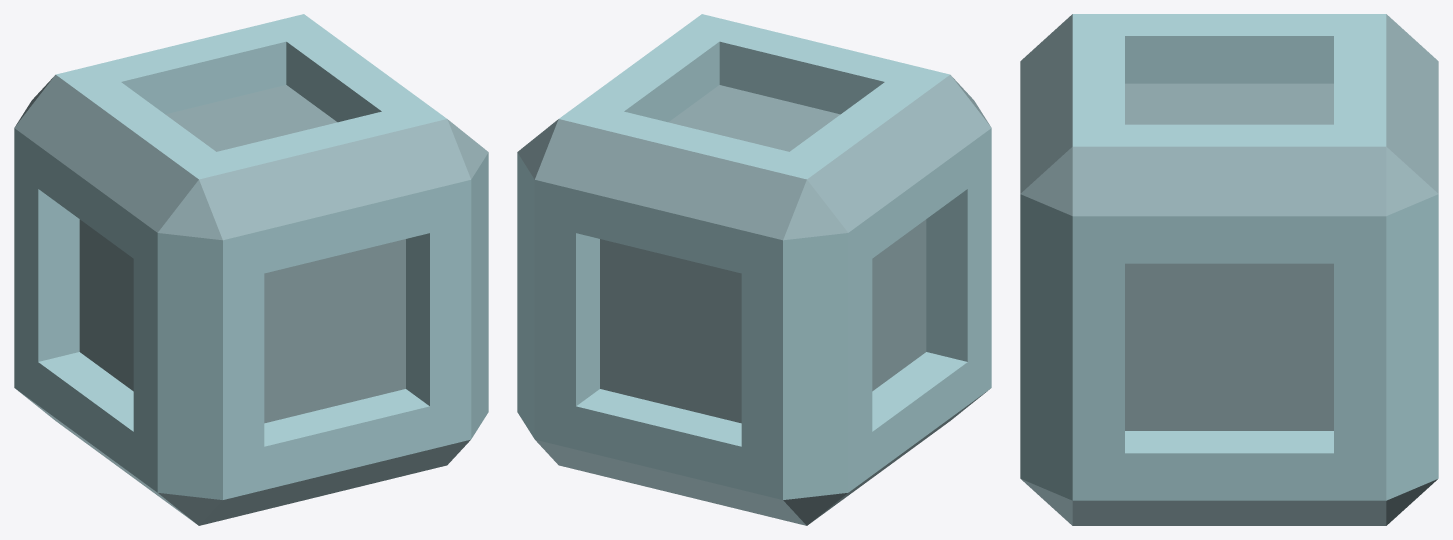
3 renders of one model, left to right at view 1: azimuth 30°, elevation 25°; view 2: azimuth 150°, elevation 25°; view 3: azimuth 270°, elevation 25°, orthographic. The views are drawn at different scales.
Parts seen in each view (by area): view 1: statue_block; view 2: statue_block; view 3: statue_block.
Boxes of the visible parts, x1,y1,x2,y2 form: statue_block: (14, 14, 488, 525); statue_block: (517, 14, 991, 525); statue_block: (1020, 14, 1438, 525).
Bounding box in the file's own units: 0.4 × 0.4 × 0.4.
